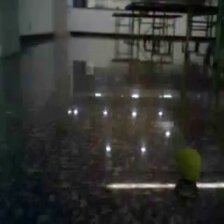tennis: (174, 147, 201, 183)
